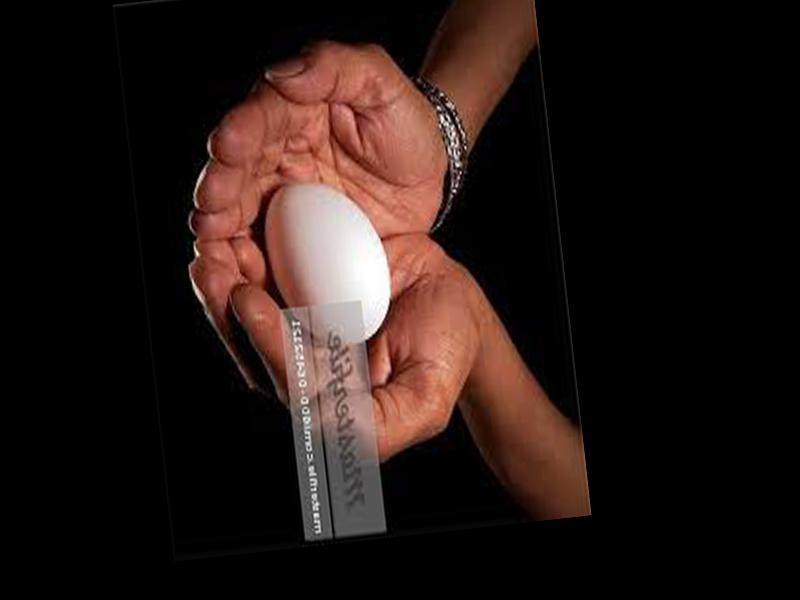Eggs: (258, 173, 394, 346)
